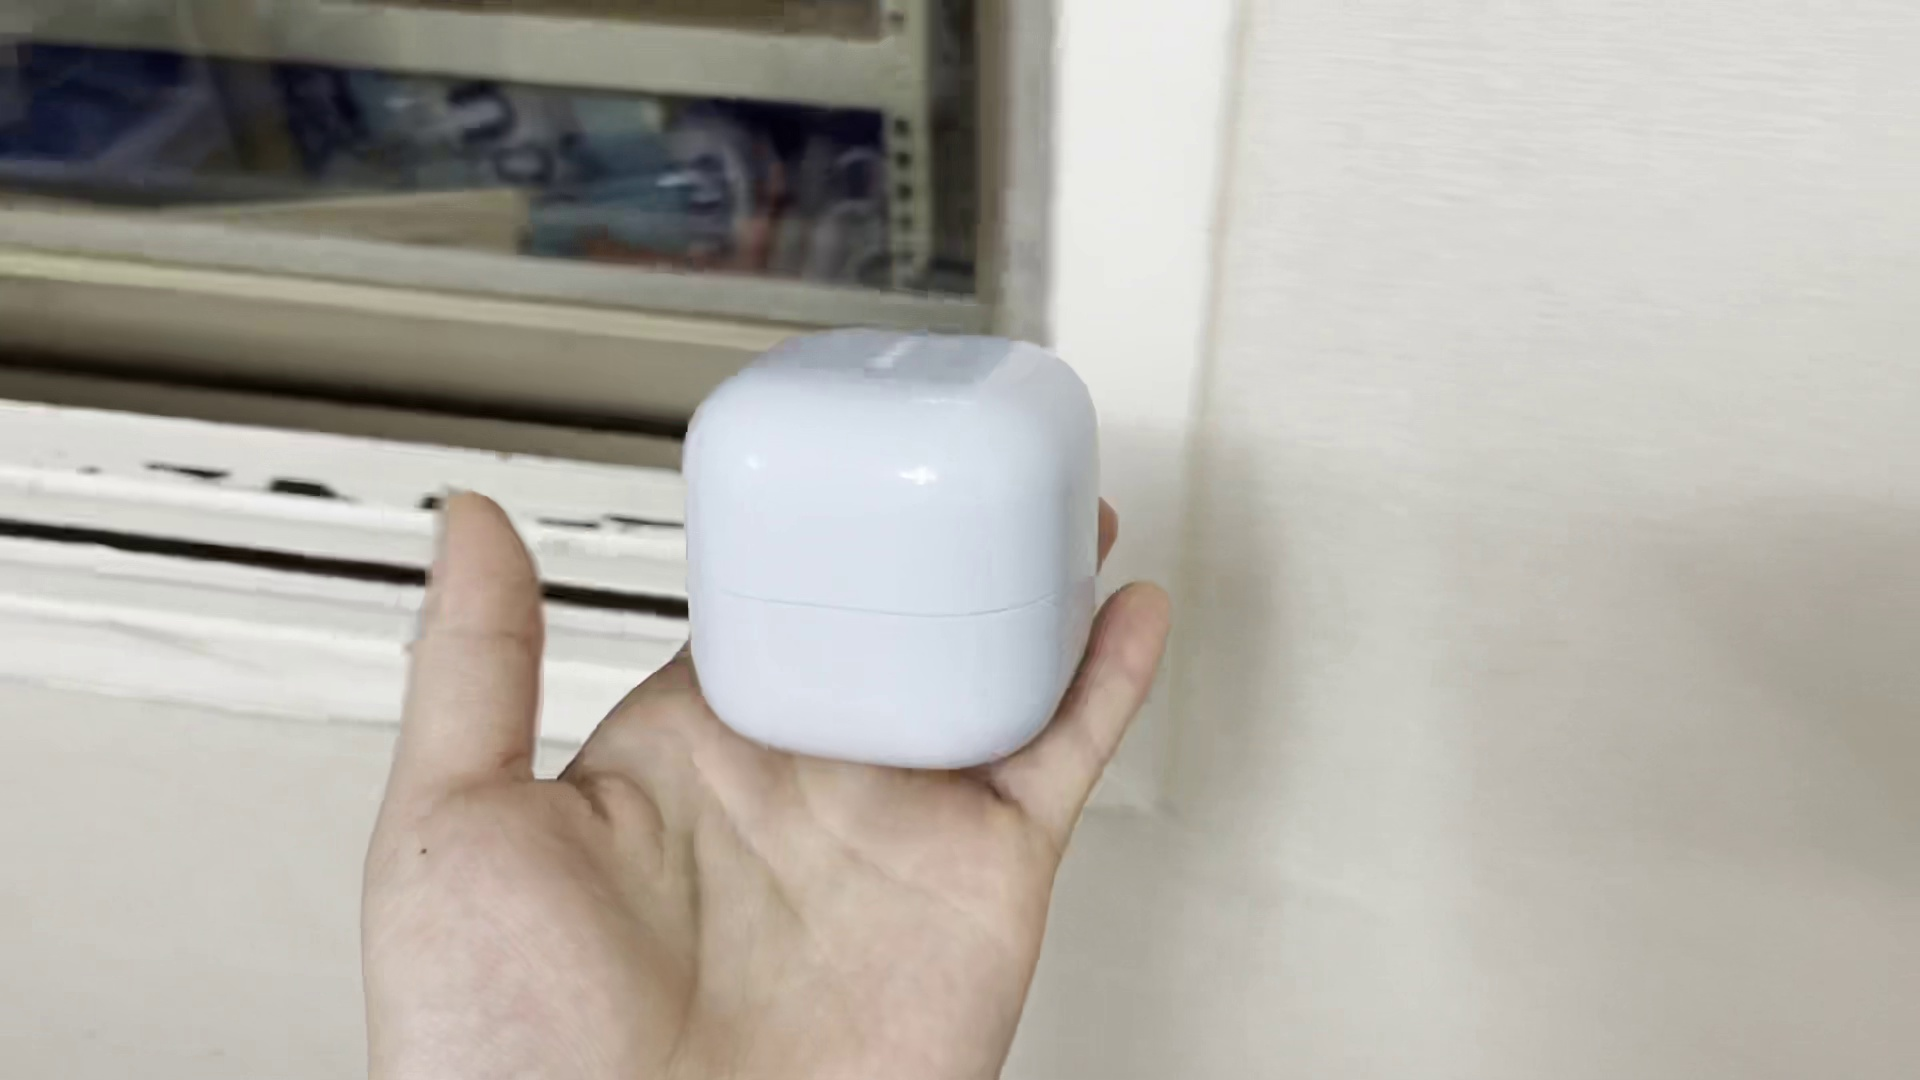cream: (679, 327, 1105, 770)
